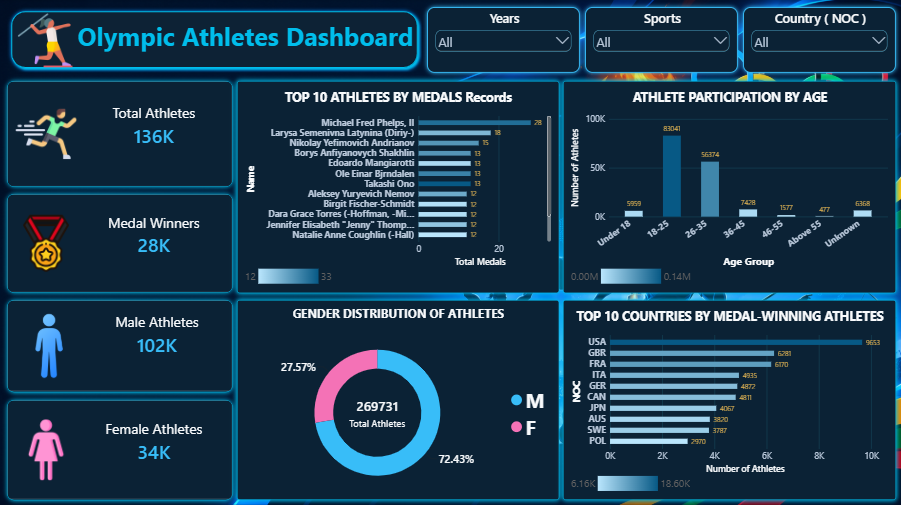

What the dashboard file says about the page in this screenshot:
{"tool":"powerbi","page":{"name":"Athletes","canvas":[1920,1080],"ordinal":4},"visuals":[{"type":"cardVisual","fields":{"Data":["athlete_events.Total Athletes"]},"box":[17,174.3,480.5,225.4],"z":0},{"type":"cardVisual","fields":{"Data":["athlete_events.Male Athletes"]},"box":[17,639.9,480.5,195.6],"z":1000},{"type":"cardVisual","fields":{"Data":["athlete_events.Female Athletes"]},"box":[17,852.5,480.5,212.6],"z":2000},{"type":"cardVisual","fields":{"Data":["athlete_events.Medal Winners"]},"box":[17,414.6,480.5,210.5],"z":3000},{"type":"clusteredColumnChart","title":"ATHLETE PARTICIPATION BY AGE","fields":{"Category":["athlete_events.Age Group"],"Y":["Count(athlete_events.ID)"]},"box":[1199.1,174.3,708,450.7],"z":4000},{"type":"donutChart","title":"GENDER DISTRIBUTION OF ATHLETES","fields":{"Category":["athlete_events.Sex"],"Y":["CountNonNull(athlete_events.ID)"]},"box":[506,639.9,684.6,425.2],"z":5000},{"type":"clusteredBarChart","title":"TOP 10 COUNTRIES BY MEDAL-WINNING ATHLETES","fields":{"Category":["athlete_events.NOC"],"Y":["Count(athlete_events.ID)"]},"box":[1199.1,639.9,708,425.2],"z":6000},{"type":"clusteredBarChart","title":"TOP 10 ATHLETES BY MEDALS Records","fields":{"Category":["athlete_events.Name"],"Y":["athlete_events.Total Medals"]},"box":[506.5,173.9,684.6,450.7],"z":7000},{"type":"slicer","title":"Years","fields":{"Values":["athlete_events.Year"]},"box":[909,17,325,140.3],"z":8000},{"type":"slicer","title":"Country  ( NOC )","fields":{"Values":["athlete_events.NOC"]},"box":[1581.7,17,325.3,140.3],"z":9000},{"type":"slicer","title":"Sports","fields":{"Values":["athlete_events.Sport"]},"box":[1245,17,325,140.3],"z":10000},{"type":"shape","box":[17,17,881.9,138.6],"z":11000},{"type":"image","box":[37.8,30.2,120,115.9],"z":12000}]}

Visuals, with their boxes in screenshot pixels (x1, y1, x2, y2), scaled from the page's 1920x1080 canvas onto the 901x505 screenshot:
cardVisual - athlete_events.Total Athletes: box=[8, 82, 233, 187]
cardVisual - athlete_events.Male Athletes: box=[8, 299, 233, 391]
cardVisual - athlete_events.Female Athletes: box=[8, 399, 233, 498]
cardVisual - athlete_events.Medal Winners: box=[8, 194, 233, 292]
"ATHLETE PARTICIPATION BY AGE" clusteredColumnChart: box=[563, 82, 895, 292]
"GENDER DISTRIBUTION OF ATHLETES" donutChart: box=[237, 299, 559, 498]
"TOP 10 COUNTRIES BY MEDAL-WINNING ATHLETES" clusteredBarChart: box=[563, 299, 895, 498]
"TOP 10 ATHLETES BY MEDALS Records" clusteredBarChart: box=[238, 81, 559, 292]
"Years" slicer: box=[427, 8, 579, 74]
"Country  ( NOC )" slicer: box=[742, 8, 895, 74]
"Sports" slicer: box=[584, 8, 737, 74]
shape: box=[8, 8, 422, 73]
image: box=[18, 14, 74, 68]
